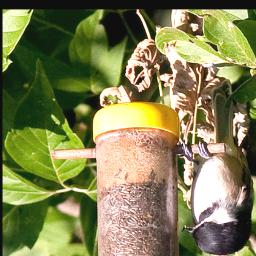Swallow: (177, 133, 256, 256)
